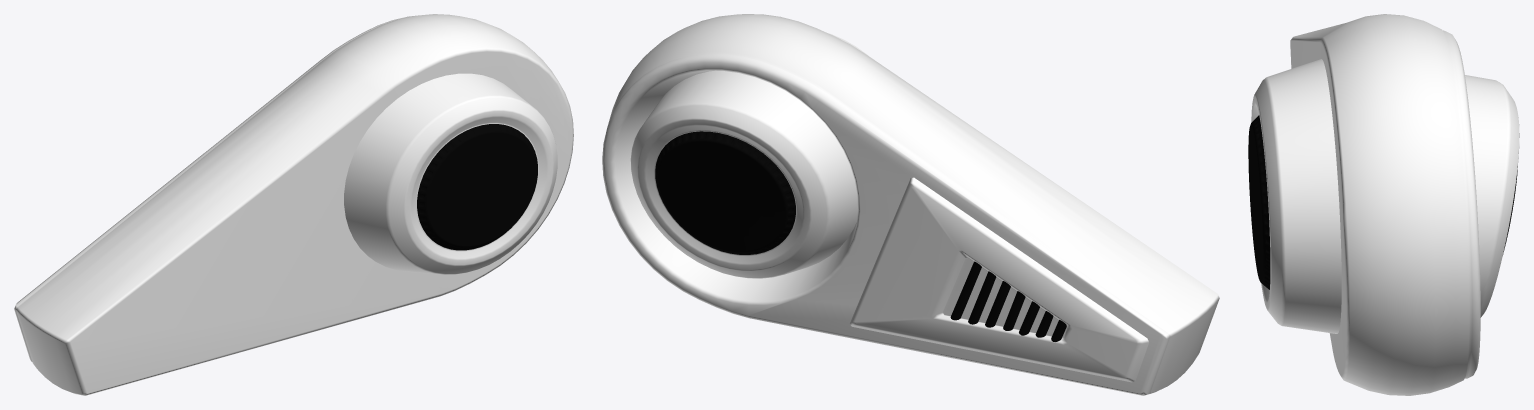
Rendered from SM_CR03_HoverR.fbx.
3 renders of one model, left to right at view 1: azimuth 30°, elevation 25°; view 2: azimuth 150°, elevation 25°; view 3: azimuth 270°, elevation 25°, orthographic. The views are drawn at different scales.
Visible parts, largest first — view 1: SM_CR03_HoverR_LOD0; view 2: SM_CR03_HoverR_LOD0; view 3: SM_CR03_HoverR_LOD0.
Part boxes in pixels (x1,y1,x2,y2): SM_CR03_HoverR_LOD0: (14, 14, 573, 395); SM_CR03_HoverR_LOD0: (602, 14, 1219, 395); SM_CR03_HoverR_LOD0: (1248, 14, 1519, 395).
Bounding box in the file's own units: 154 × 52.97 × 73.47.
Materials: 1 (1 with a texture image).
